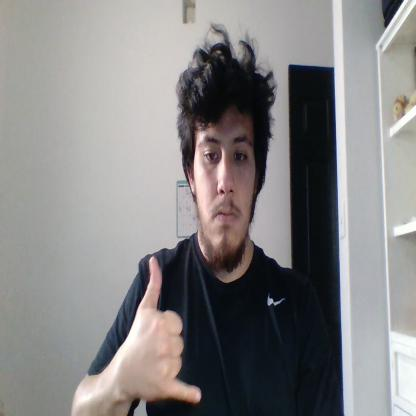Y: (129, 255, 202, 401)
